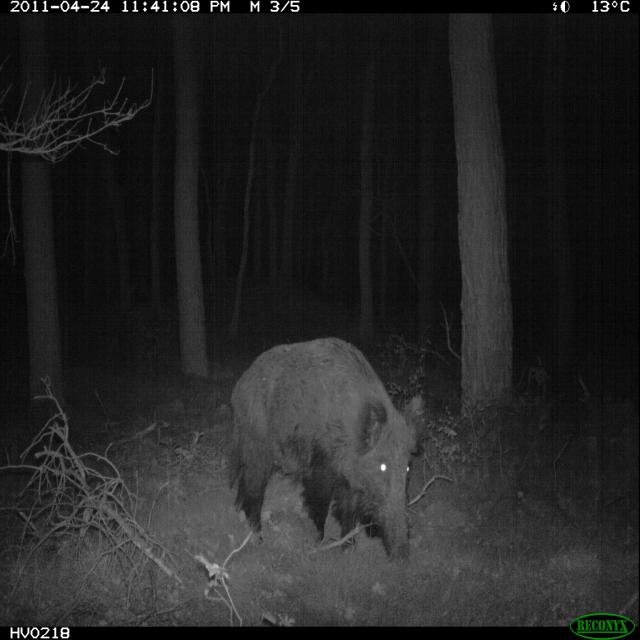boar: (208, 324, 435, 574)
